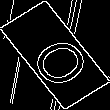O_NE: (17, 22, 93, 88)
